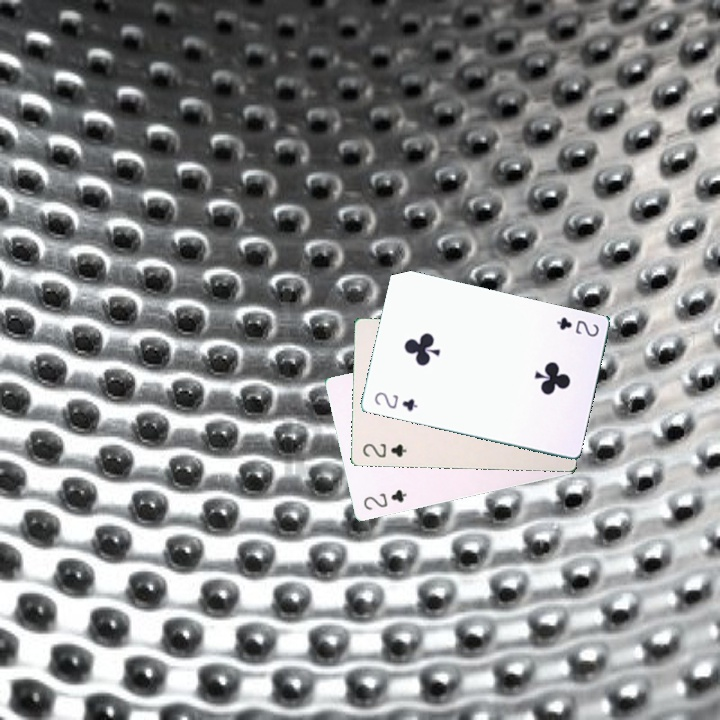2c: (359, 485, 409, 512), (370, 388, 420, 414), (553, 313, 601, 340), (359, 439, 409, 460)
